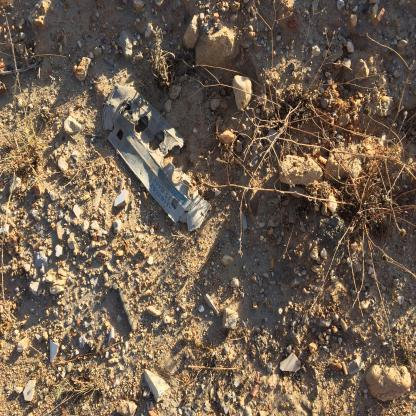karton: (104, 85, 212, 233)
